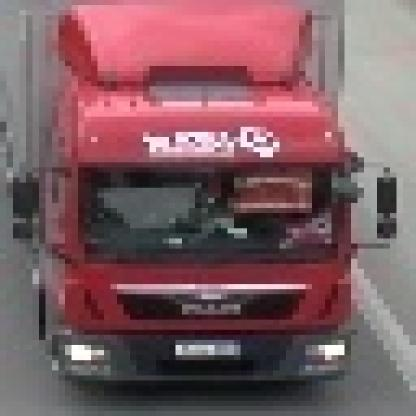truck: (1, 1, 397, 381)
